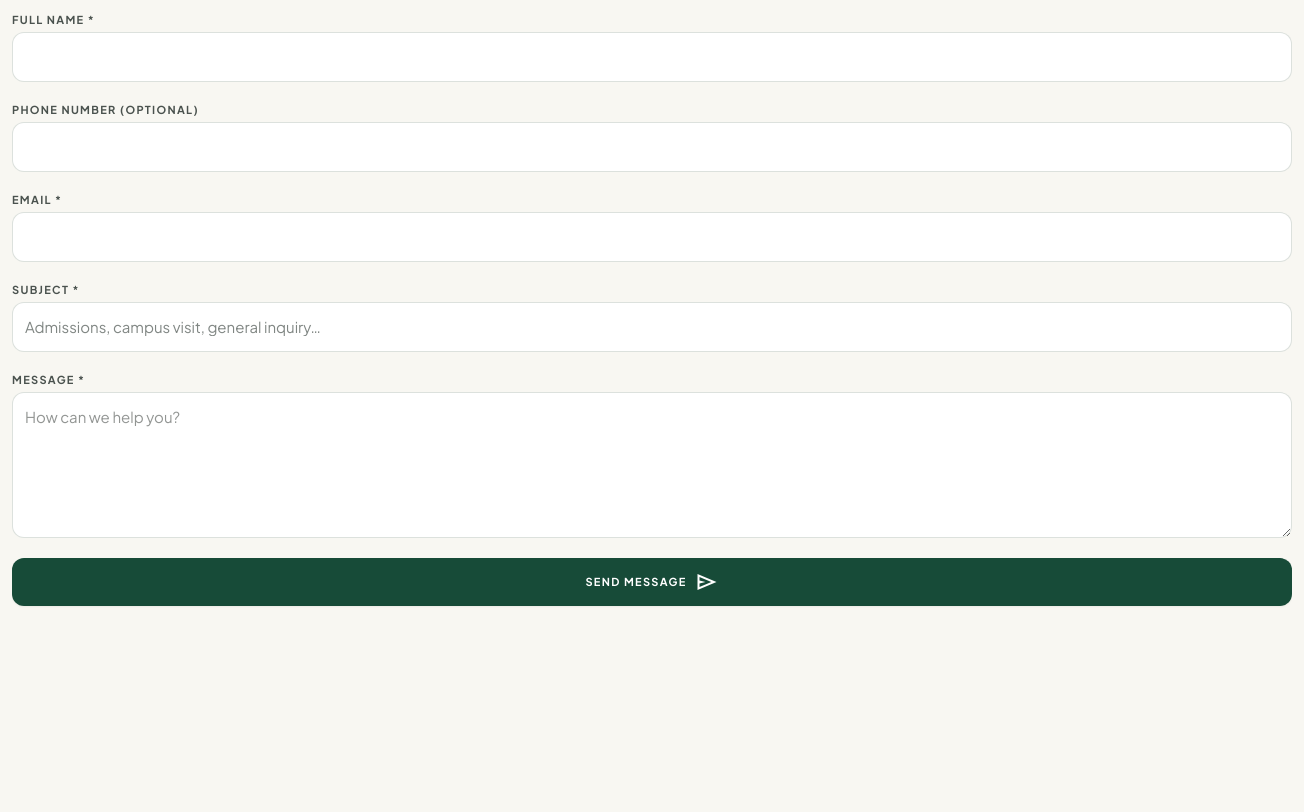
Scenario: ContactMessageForm › submits to the API and shows the backend success message
Type "Test User" into the field labelled "Full Name *" at (652, 57), box [12,32,1292,82]
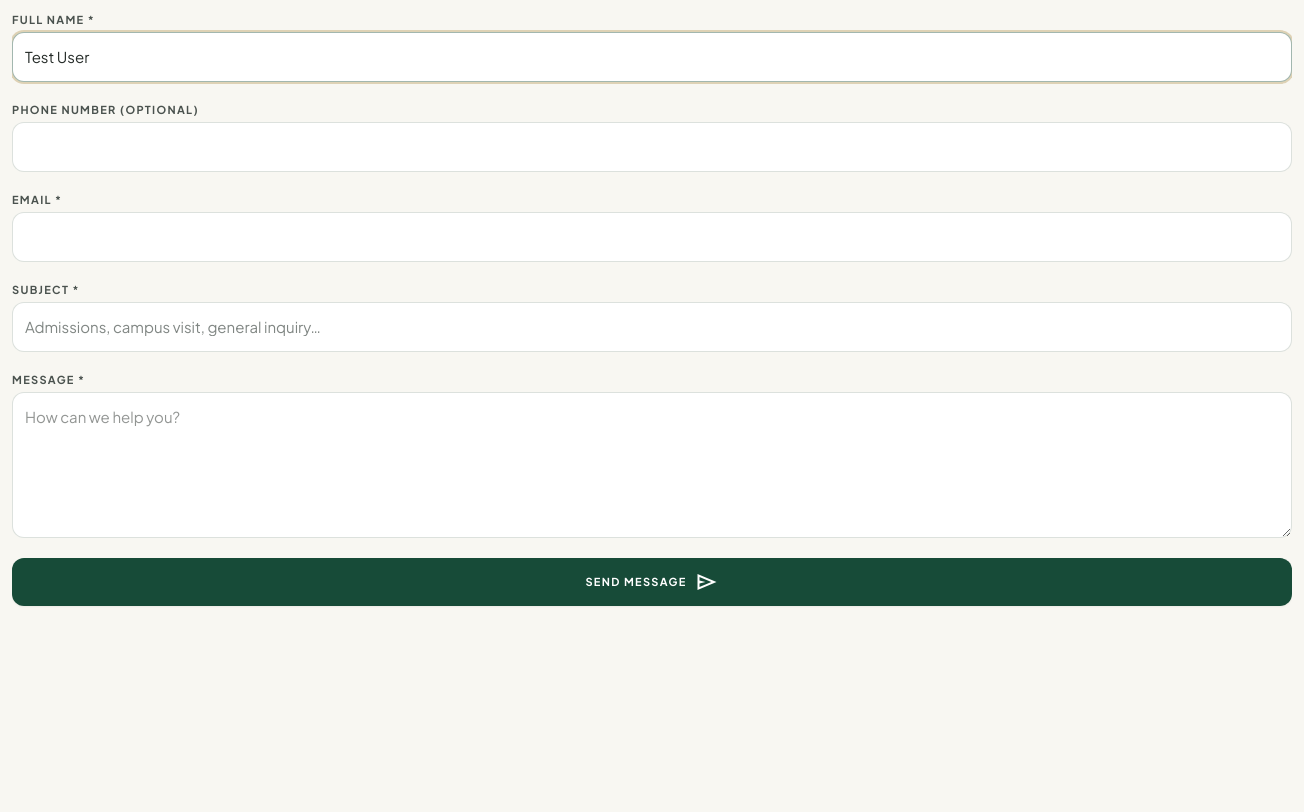
Type "test@example.com" into the field labelled "Email *" at (652, 237), box [12,212,1292,262]
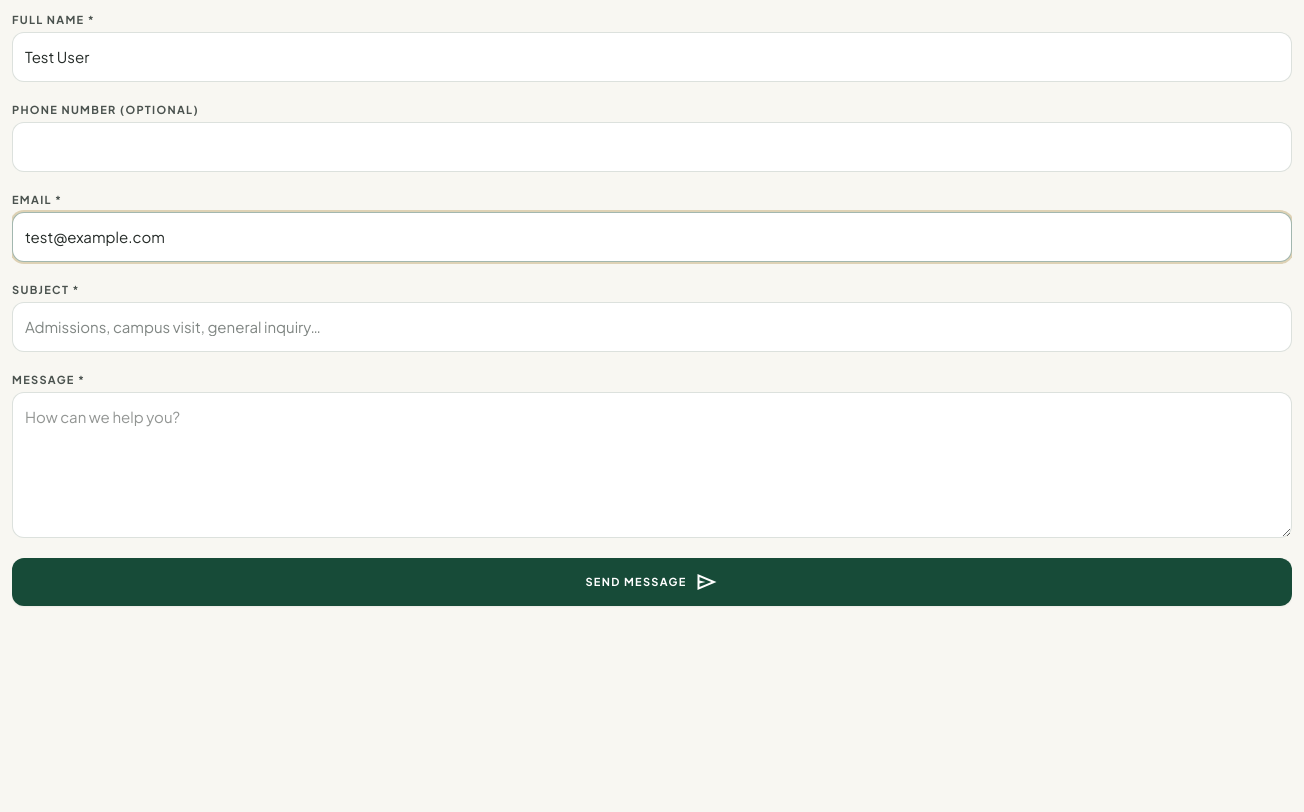
Type "Hello" into the field labelled "Subject *" at (652, 327), box [12,302,1292,352]
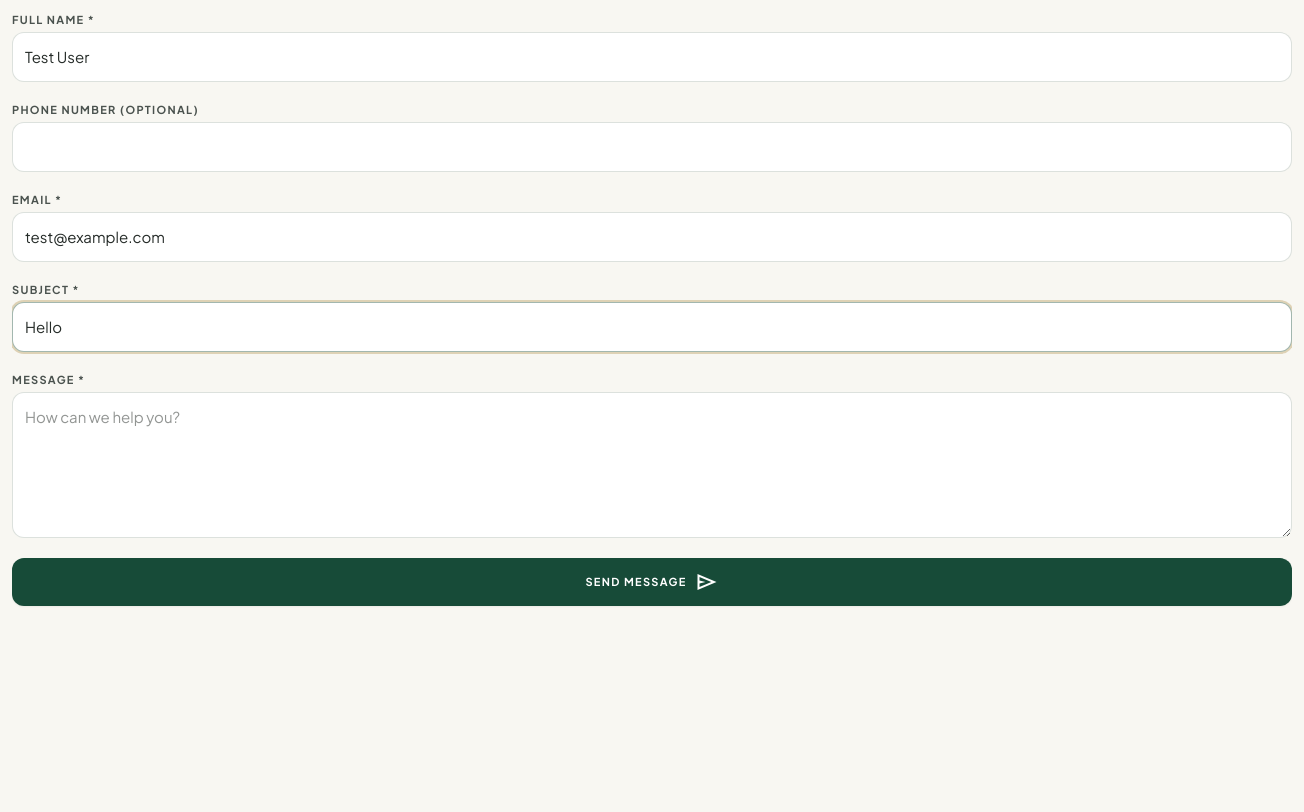
Type "Body text for contact." into the text box labelled "Message *" at (652, 465), box [12,392,1292,538]
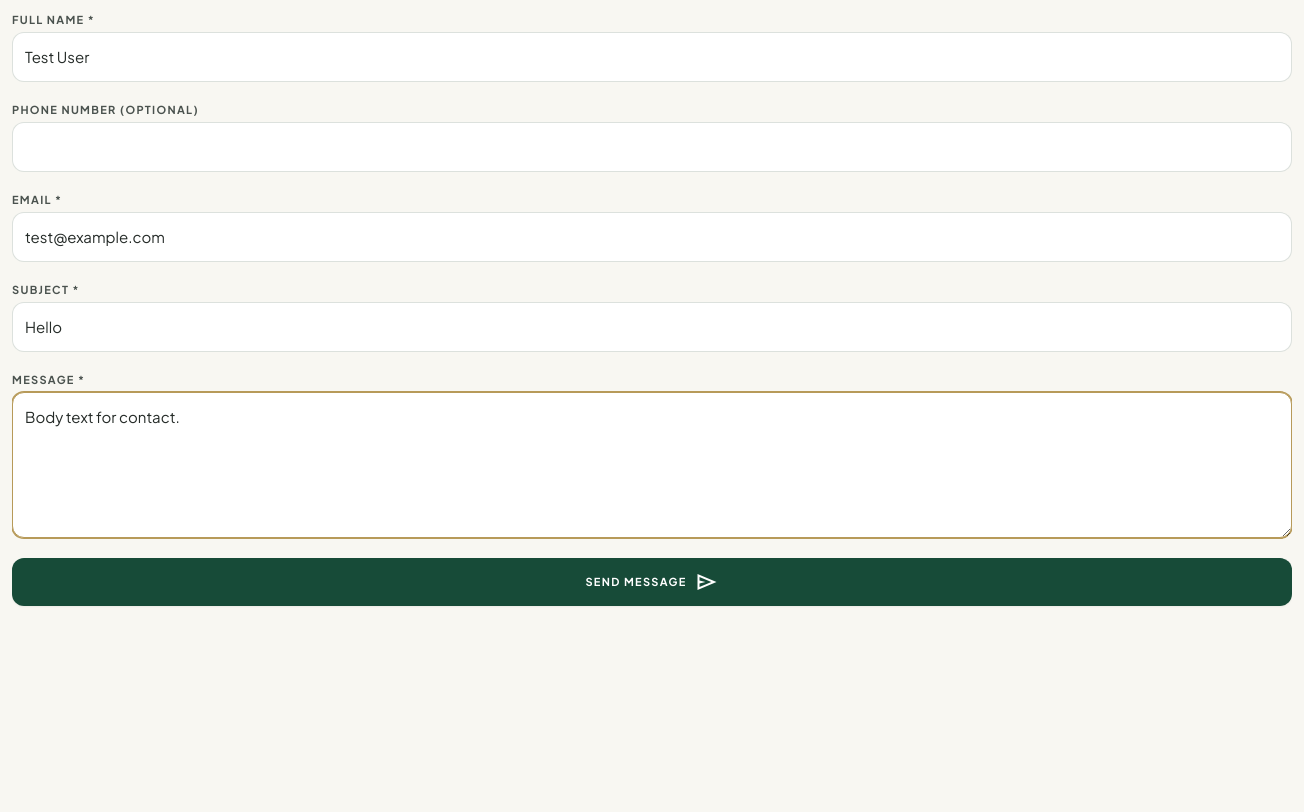
Click the button "Send Message" at (652, 582), box [12,558,1292,606]
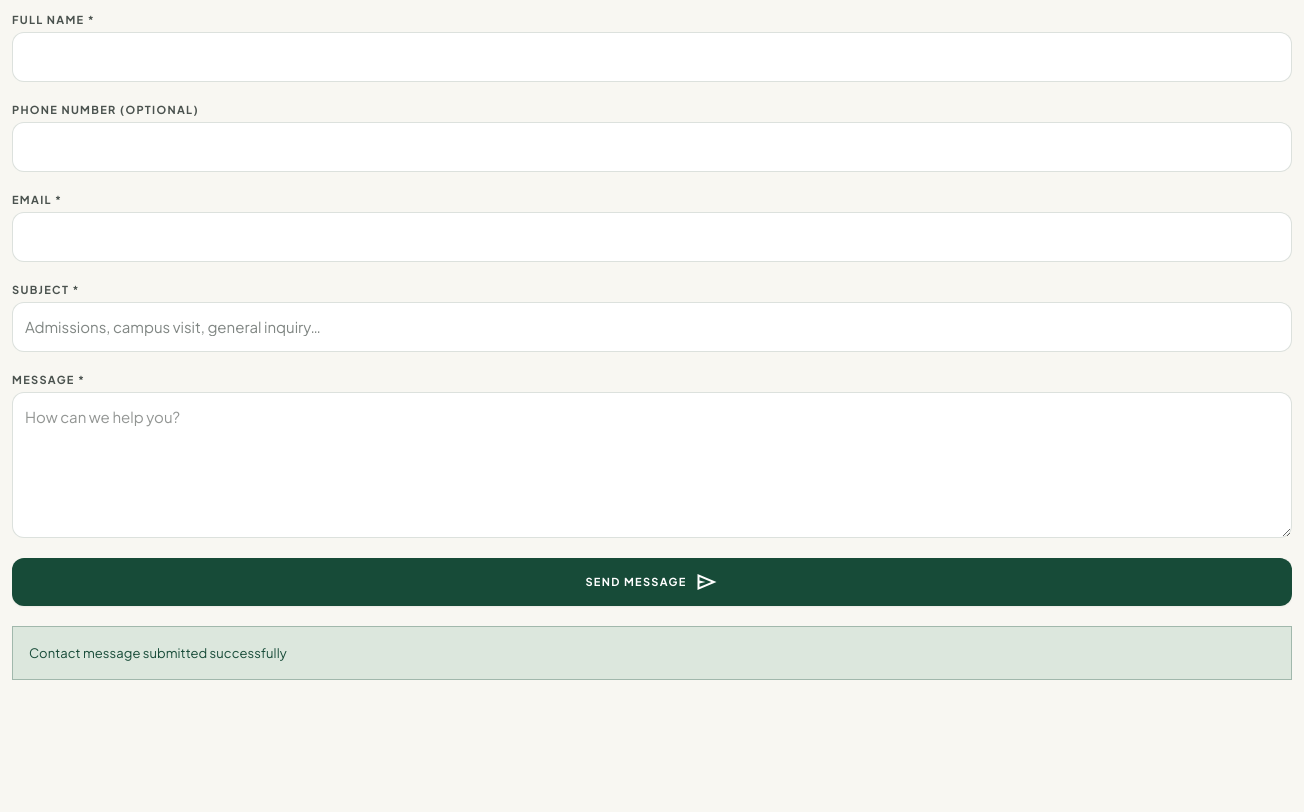
expect the text "Contact message submitted successfully" is shown: met, box [12,626,1292,680]
